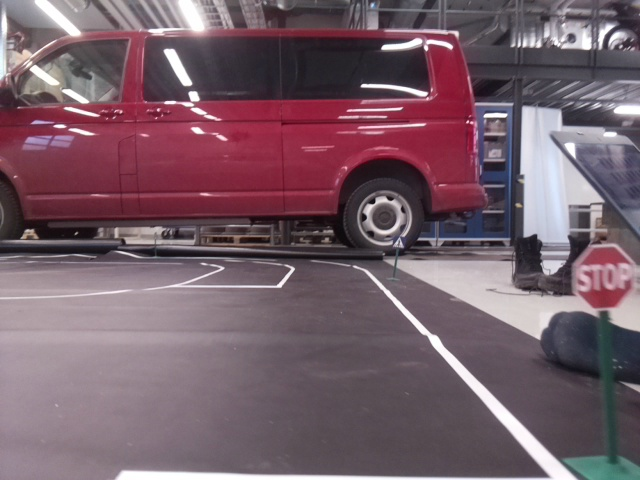Crosswalk: (569, 239, 634, 311)
Stop: (393, 235, 403, 246)
